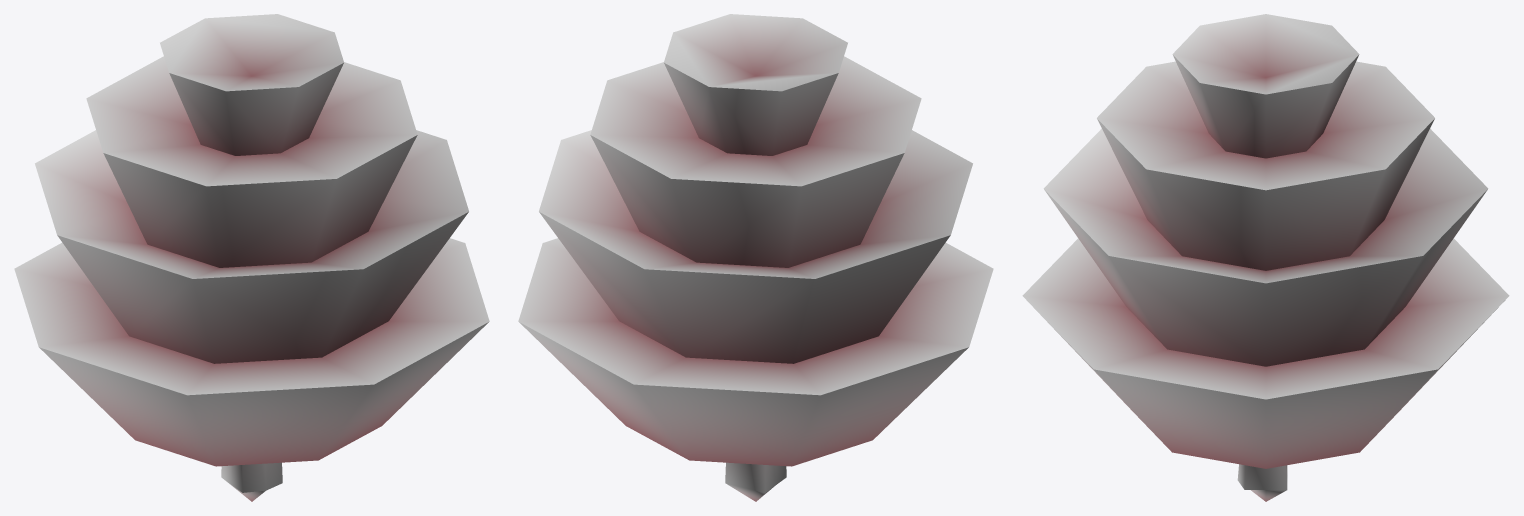
File: SnowPineCone.fbx
The picture shows the model from 3 angles, left to right: view 1: azimuth 30°, elevation 25°; view 2: azimuth 150°, elevation 25°; view 3: azimuth 270°, elevation 25°; orthographic projection.
Parts seen in each view (by area): view 1: Pinecone.001; view 2: Pinecone.001; view 3: Pinecone.001.
Part boxes in pixels (bbox=[...]): Pinecone.001: bbox=[14, 14, 489, 501]; Pinecone.001: bbox=[518, 14, 993, 501]; Pinecone.001: bbox=[1022, 14, 1509, 501].
Size of the model in its own units: 127 by 128 by 126.
